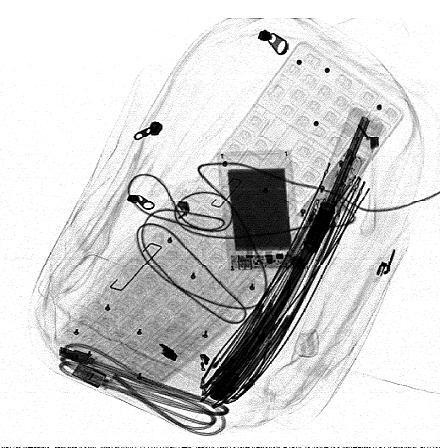Powerbank: (217, 150, 301, 272)
